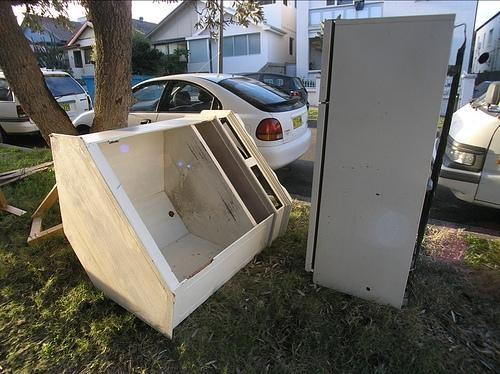car: (74, 73, 312, 173), (0, 66, 95, 144), (244, 74, 310, 114)
truck: (428, 76, 500, 210)
